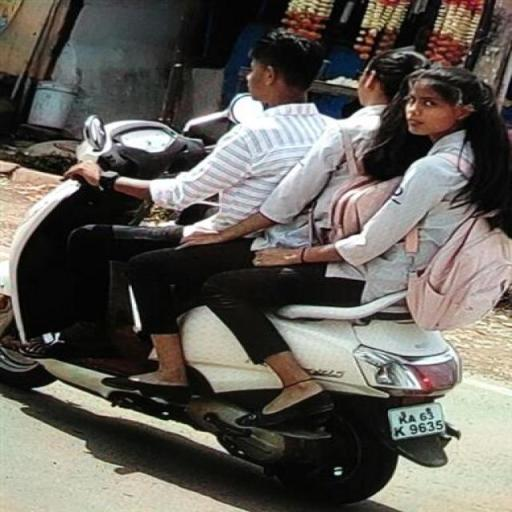tripple riding: (41, 26, 508, 340)
